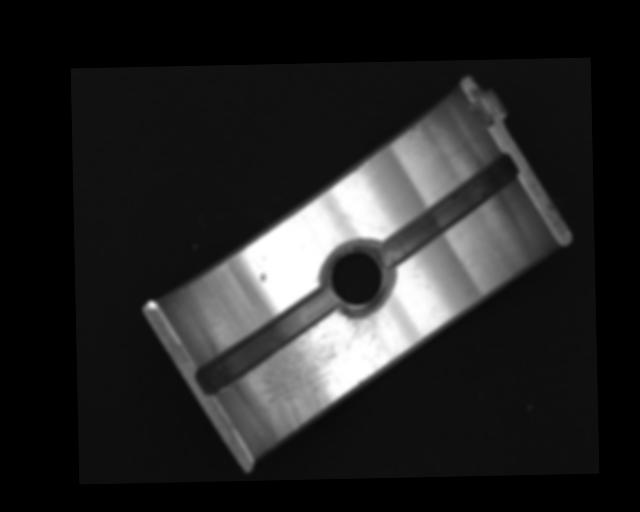bruise: (259, 272, 266, 283)
gap: (374, 152, 520, 267), (195, 288, 336, 395)
hole: (319, 242, 396, 318)
scratch: (256, 305, 387, 440)
